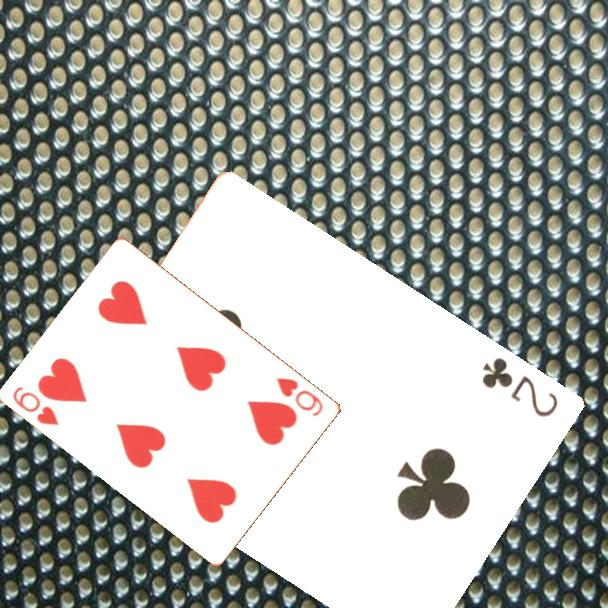c02: (477, 353, 561, 421)
h06: (273, 374, 327, 419), (9, 383, 62, 428)
